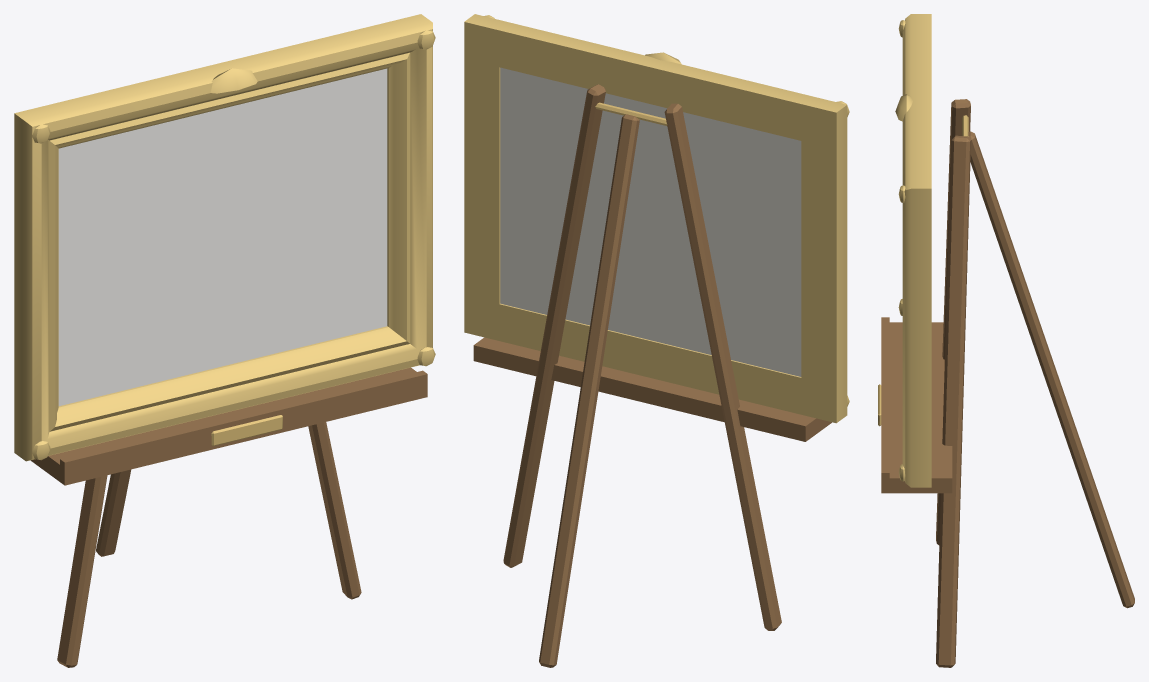
The model's file is art_frame.glb.
3 views of the same model, side by side, from view 1: azimuth 30°, elevation 25°; view 2: azimuth 150°, elevation 25°; view 3: azimuth 270°, elevation 25° (orthographic). The views are drawn at different scales.
Parts seen in each view (by area): view 1: art_frame_body; view 2: art_frame_body; view 3: art_frame_body.
Boxes of the visible parts, x1,y1,x2,y2 form: art_frame_body: (14,14,435,667); art_frame_body: (464,14,849,667); art_frame_body: (878,14,1134,667).
Bounding box in the file's own units: 0.74 × 1.01 × 0.4597.
